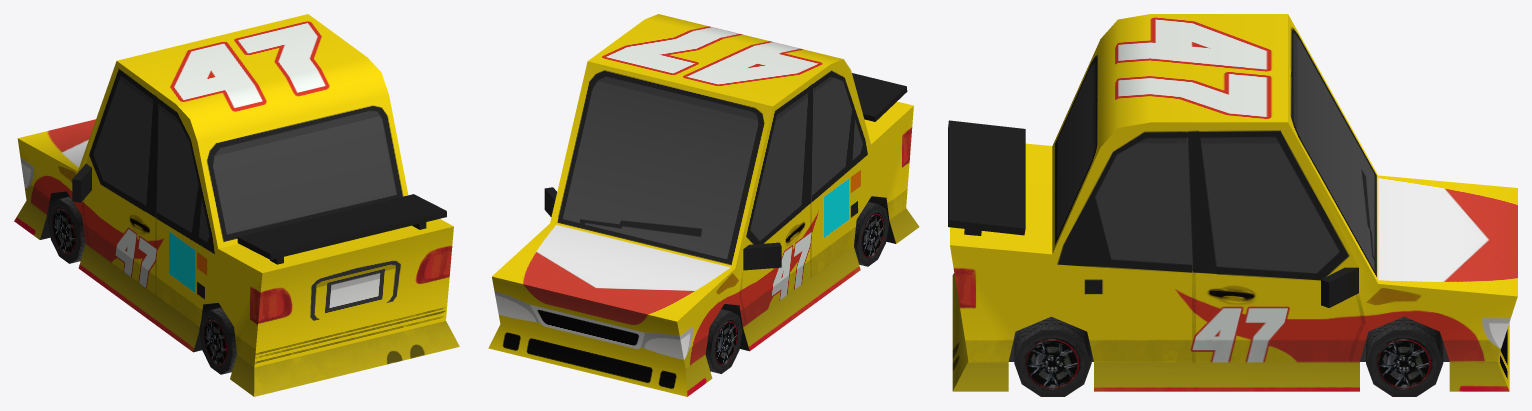
The model's file is SportsCar_Yellow_collada_14.dae.
3 views of the same model, side by side, from view 1: azimuth 30°, elevation 25°; view 2: azimuth 150°, elevation 25°; view 3: azimuth 270°, elevation 25° (orthographic). The views are drawn at different scales.
Visible parts, largest first — view 1: sportsCar_yellow_body, wheelBL, wheelFL; view 2: sportsCar_yellow_body, wheelFL, wheelBL; view 3: sportsCar_yellow_body, wheelFR, wheelBR.
Part boxes in pixels (left/top/right/bottom): sportsCar_yellow_body: left=14, top=14, right=459, bottom=396; wheelBL: left=199, top=307, right=236, bottom=374; wheelFL: left=47, top=196, right=85, bottom=263; sportsCar_yellow_body: left=488, top=14, right=919, bottom=396; wheelFL: left=705, top=309, right=742, bottom=373; wheelBL: left=854, top=201, right=888, bottom=266; sportsCar_yellow_body: left=948, top=14, right=1517, bottom=391; wheelFR: left=1366, top=316, right=1443, bottom=396; wheelBR: left=1014, top=316, right=1091, bottom=396.
Size of the model in its own units: 242 by 222 by 420.
Materials: 1 (1 with a texture image).
